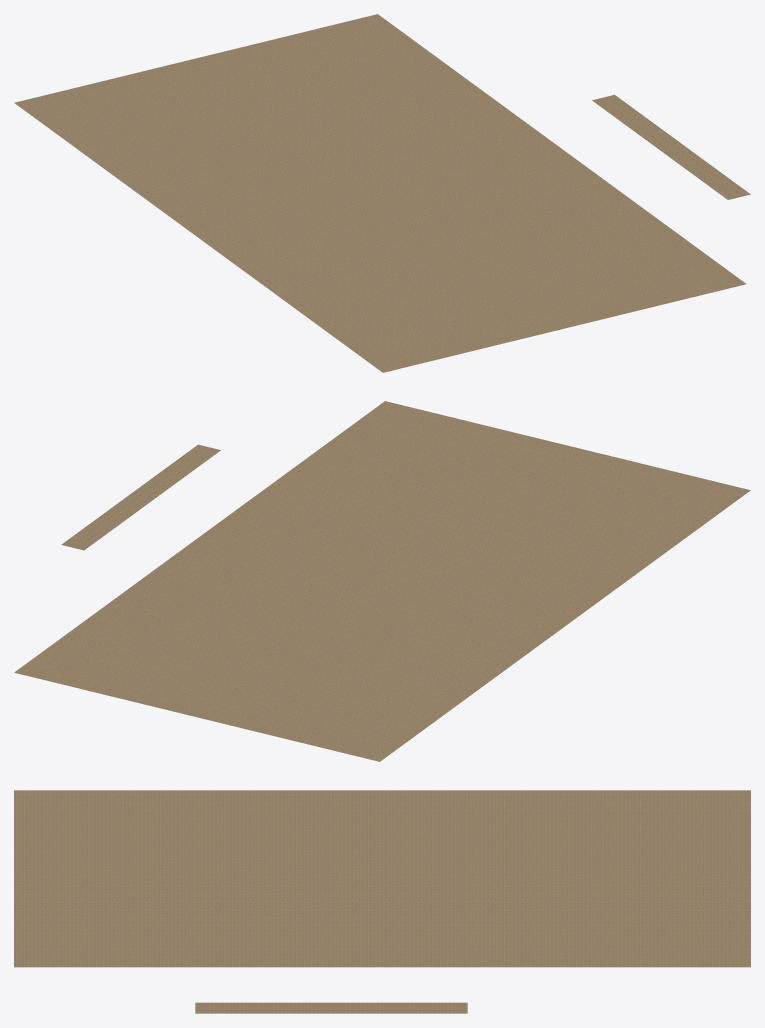
The model's file is recife_chao_paralelepipedo_liso.glb.
3 renders of one model, top to bottom at view 1: azimuth 30°, elevation 25°; view 2: azimuth 150°, elevation 25°; view 3: azimuth 270°, elevation 25°, orthographic.
Visible parts, largest first — view 1: recife_chao_paralelepipedo_liso; view 2: recife_chao_paralelepipedo_liso; view 3: recife_chao_paralelepipedo_liso.
Part boxes in pixels (bbox=[...]): recife_chao_paralelepipedo_liso: bbox=[14, 14, 750, 372]; recife_chao_paralelepipedo_liso: bbox=[14, 401, 750, 761]; recife_chao_paralelepipedo_liso: bbox=[14, 790, 750, 1013].
Size of the model in its own units: 700 by 0 by 975.
Materials: 1 (1 with a texture image).
